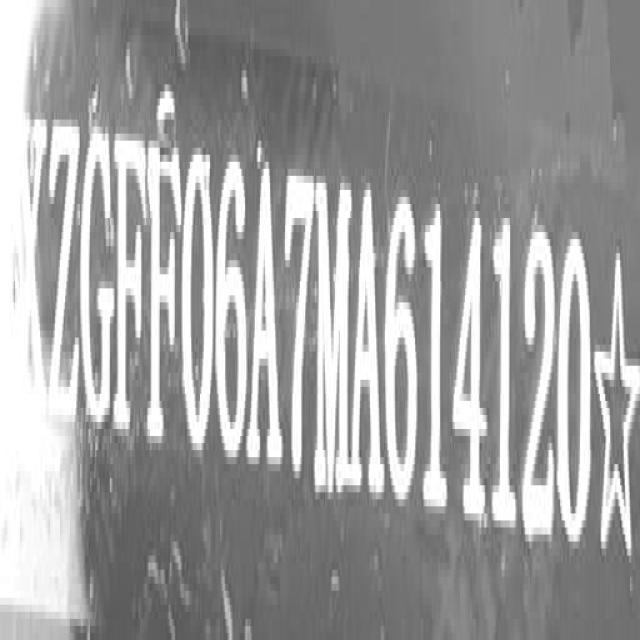0: (559, 222, 590, 555), (184, 145, 215, 462)
1: (493, 213, 520, 544), (423, 188, 448, 525)
2: (524, 217, 556, 547)
4: (451, 195, 485, 533)
6: (388, 187, 421, 515), (215, 152, 249, 469)
7: (286, 165, 313, 495)
A: (351, 179, 384, 508), (251, 153, 282, 476)
F: (148, 138, 181, 460), (117, 129, 147, 449)
G: (83, 120, 115, 437)
M: (316, 165, 350, 506)
X: (13, 111, 46, 432)
Z: (52, 120, 80, 430)
